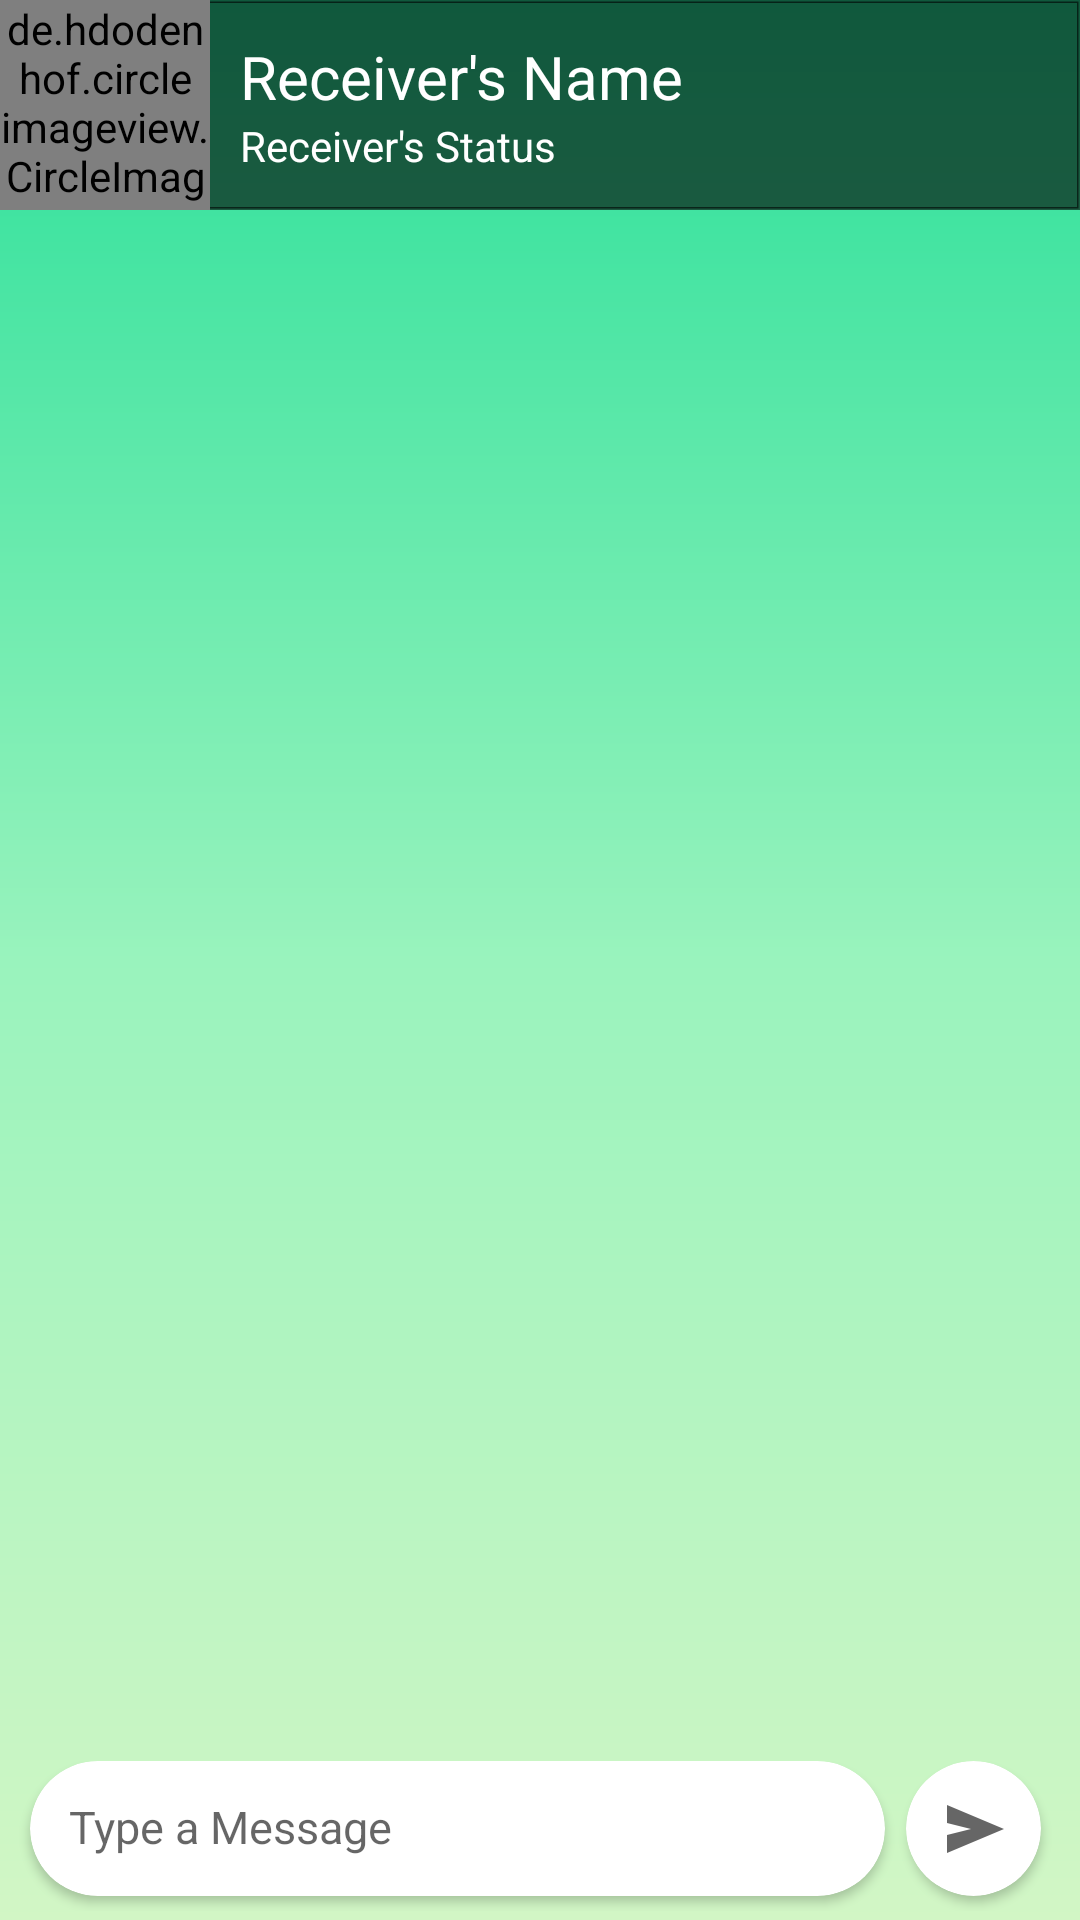

Named icons in this screenshot (1080 x 1920) and their centers, (x,y):
tap to send: (973,1828)
